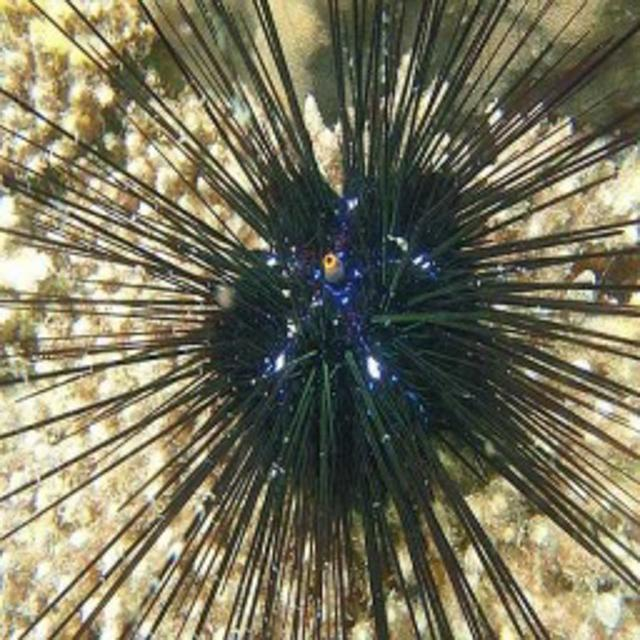Urchin: (8, 2, 630, 623)
